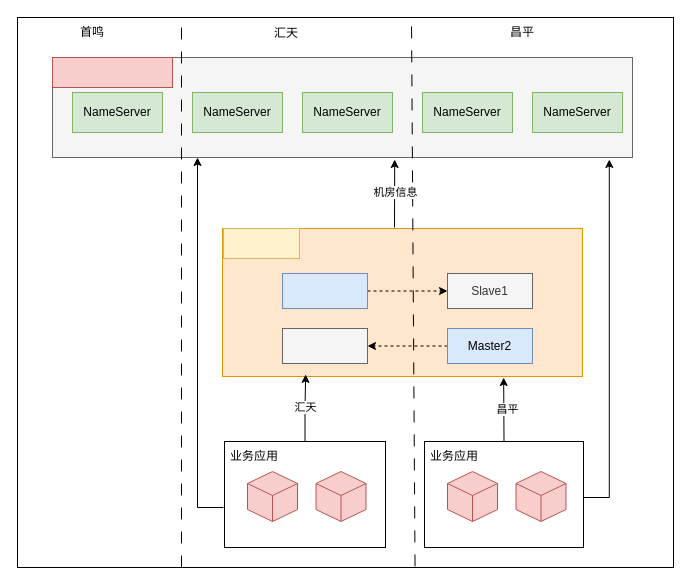
The diagram is 691 pixels wide and 586 high, and some of its shapes have lost their labels. The shapes that lost their labels are listed below. From the top down, each one's box as (x1, y1, x2, y2) in pixels, then its label:
(52, 56, 172, 88): NameServer Cluster
(222, 228, 300, 258): broker集群1
(282, 272, 368, 308): Master1
(282, 328, 368, 364): Slave2
